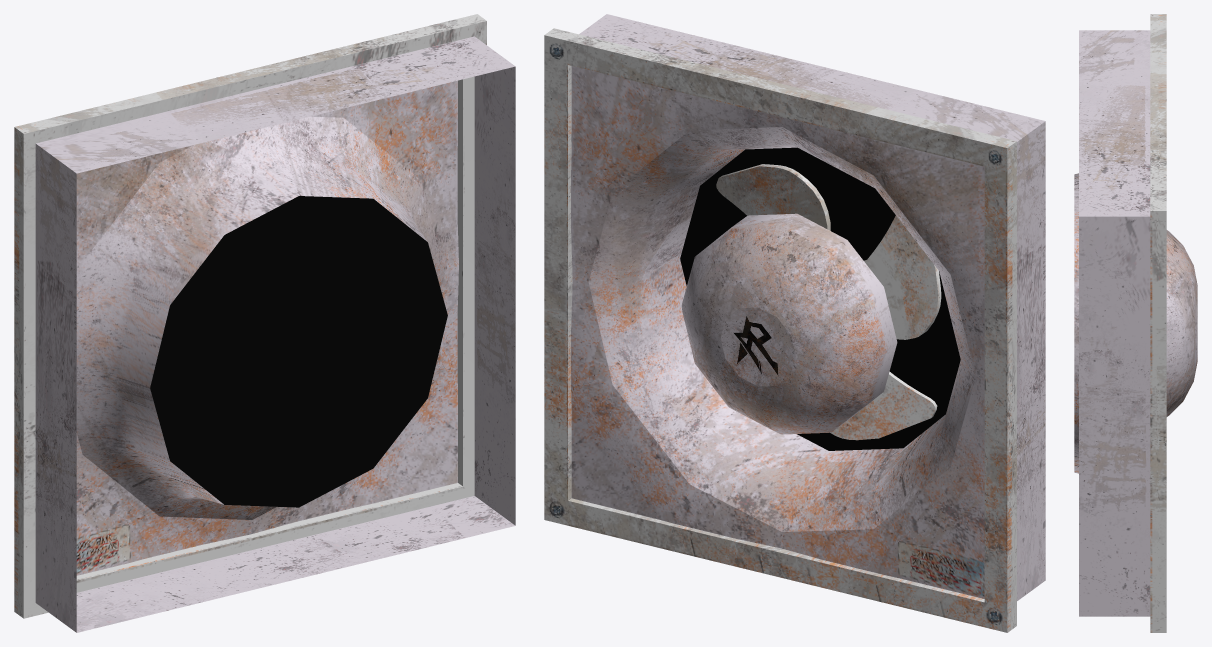
Rendered from ventilationfan.fbx.
The picture shows the model from 3 angles, left to right: view 1: azimuth 30°, elevation 25°; view 2: azimuth 150°, elevation 25°; view 3: azimuth 270°, elevation 25°; orthographic projection. The views are drawn at different scales.
Parts seen in each view (by area): view 1: ventilationfan; view 2: ventilationfan; view 3: ventilationfan.
Part boxes in pixels (x1=…): ventilationfan: x1=14, y1=14, x2=515, y2=632; ventilationfan: x1=544, y1=14, x2=1045, y2=632; ventilationfan: x1=1074, y1=14, x2=1197, y2=632.
Bounding box in the file's own units: 36.64 × 36.64 × 9.71.
